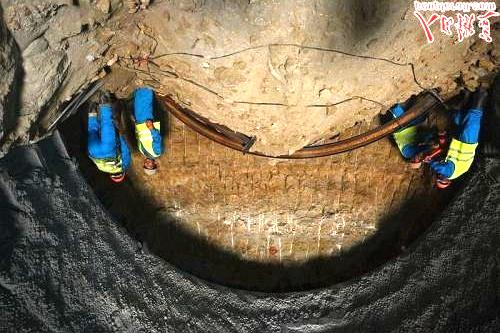helmet: (142, 158, 157, 177), (436, 174, 450, 189), (409, 155, 422, 169), (110, 172, 125, 183)
